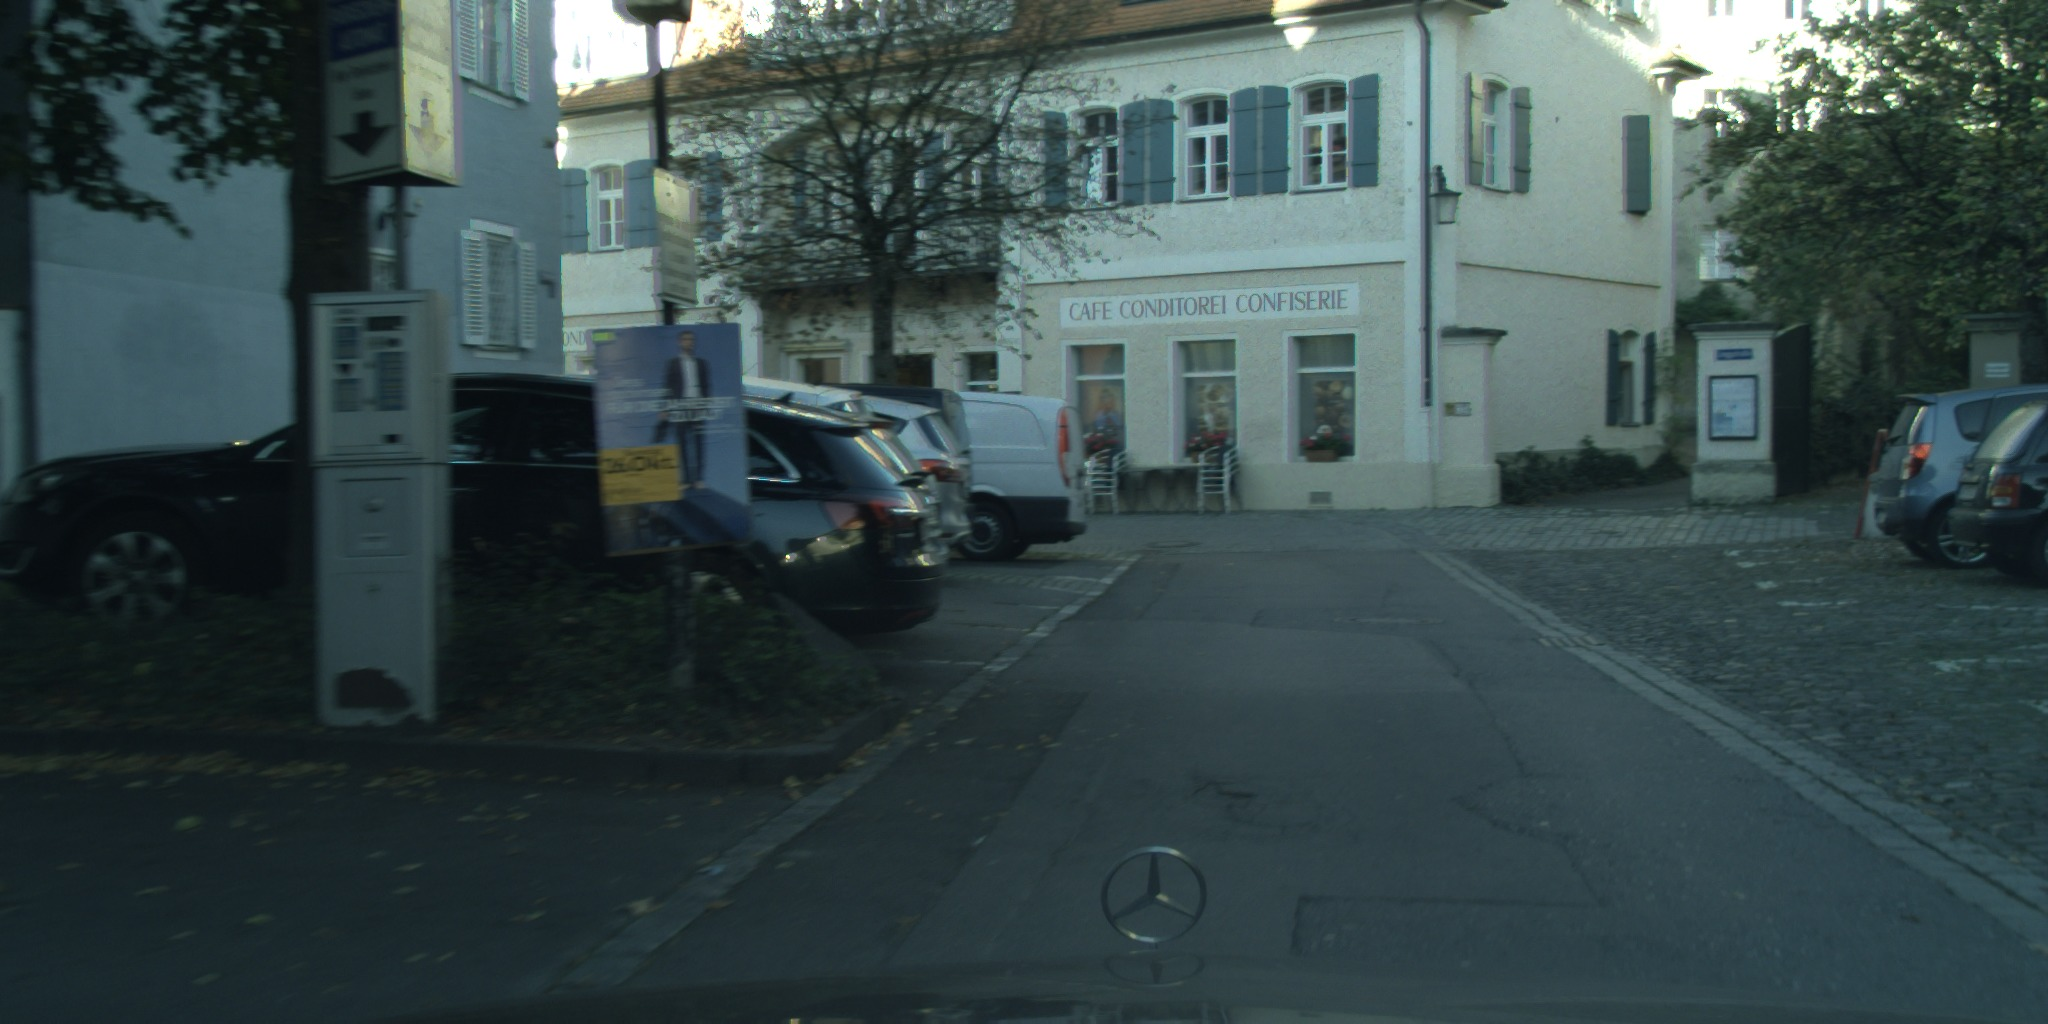car: (0, 371, 950, 636), (1865, 384, 2048, 569), (946, 391, 1087, 562), (846, 392, 974, 550), (811, 381, 972, 505), (1949, 398, 2048, 583), (737, 374, 869, 419)
